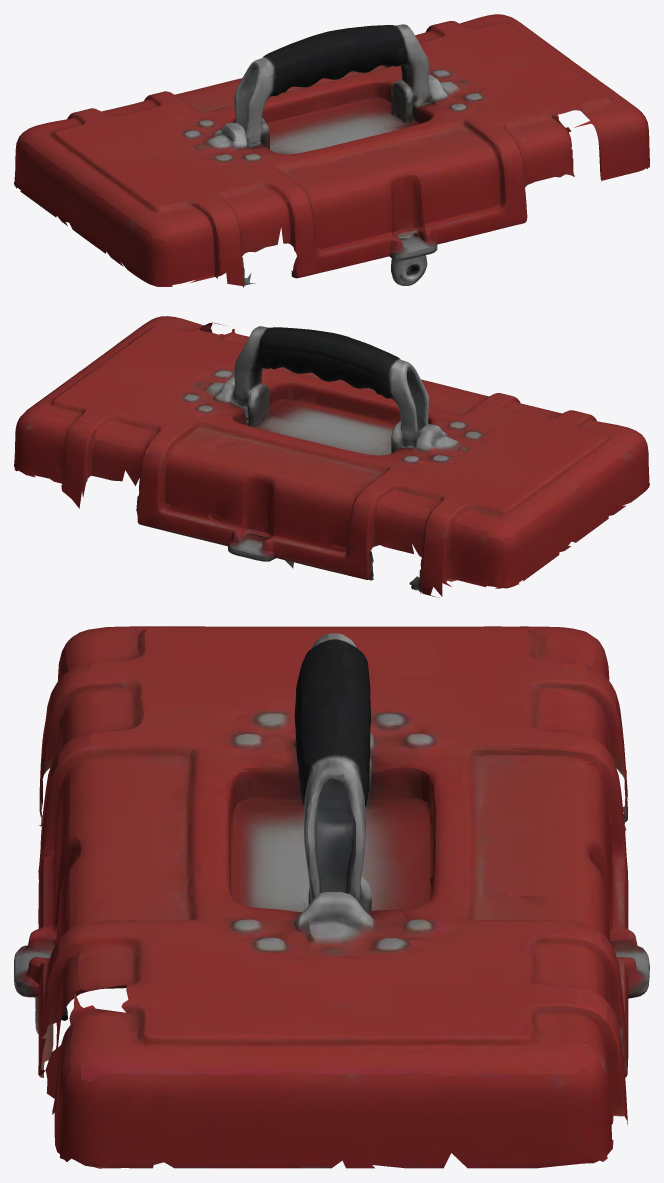
Rendered from lid.glb.
3 renders of one model, top to bottom at view 1: azimuth 30°, elevation 25°; view 2: azimuth 150°, elevation 25°; view 3: azimuth 270°, elevation 25°, orthographic. The views are drawn at different scales.
Parts seen in each view (by area): view 1: world; view 2: world; view 3: world.
Boxes of the visible parts, bbox=[...] form: world: bbox=[14, 14, 649, 287]; world: bbox=[14, 316, 649, 597]; world: bbox=[14, 626, 649, 1168].
Size of the model in its own units: 0.4332 by 0.1604 by 0.2565.
1 material, 1 textured.
